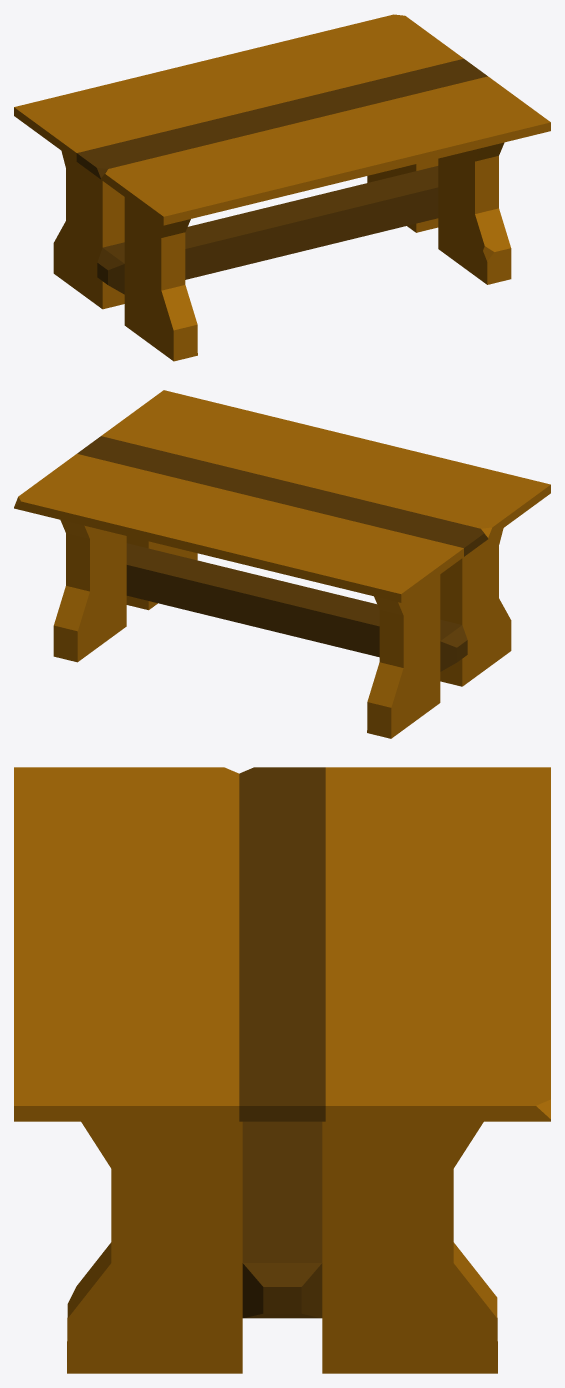
Rendered from Table_04.fbx.
3 renders of one model, top to bottom at view 1: azimuth 30°, elevation 25°; view 2: azimuth 150°, elevation 25°; view 3: azimuth 270°, elevation 25°, orthographic. The views are drawn at different scales.
Visible parts, largest first — view 1: Table_04; view 2: Table_04; view 3: Table_04.
Boxes of the visible parts, x1,y1,x2,y2 form: Table_04: (14, 14, 550, 361); Table_04: (14, 390, 550, 738); Table_04: (14, 767, 550, 1373).
Bounding box in the file's own units: 229 × 91.47 × 154.
